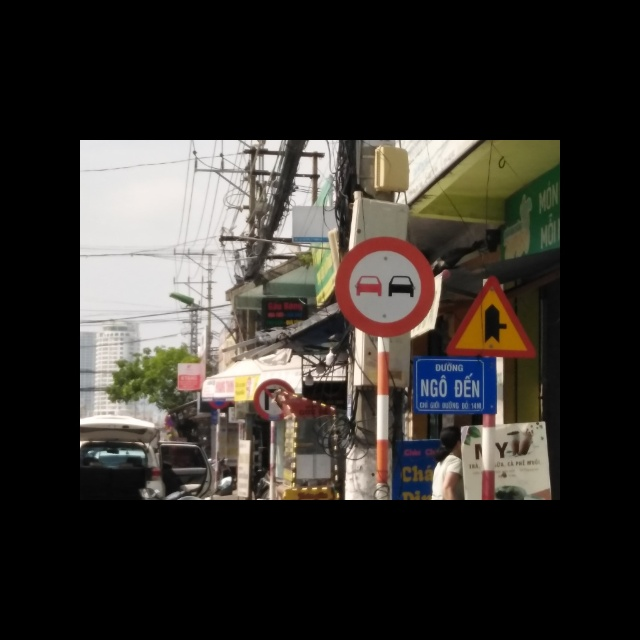Cấm vượt: (335, 234, 438, 337)
Giao nhau với đường không ưu tiên: (446, 274, 538, 360)
